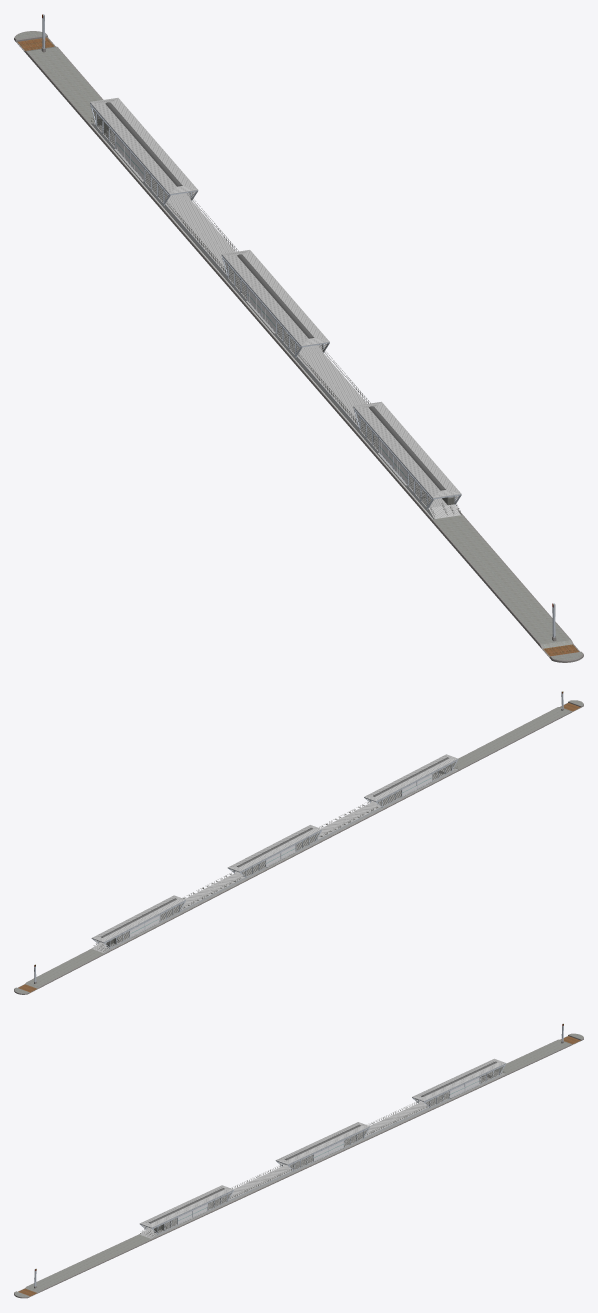
The model's file is estacion.gltf.
The picture shows the model from 3 angles, top to bottom: view 1: azimuth 30°, elevation 25°; view 2: azimuth 150°, elevation 25°; view 3: azimuth 330°, elevation 25°; orthographic projection. The views are drawn at different scales.
Parts seen in each view (by area): view 1: estacion; view 2: estacion; view 3: estacion.
Part boxes in pixels (<box>): estacion: <box>14,14,583,662</box>; estacion: <box>14,691,583,994</box>; estacion: <box>14,1023,583,1298</box>.
Size of the model in its own units: 55.56 by 12.08 by 268.
Materials: 17 (9 with a texture image).
